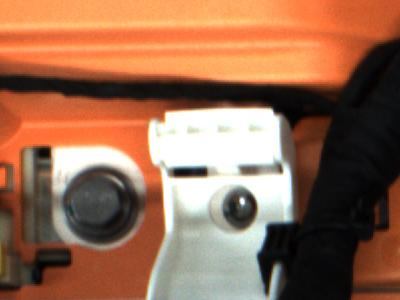nut_b: (63, 170, 141, 243)
